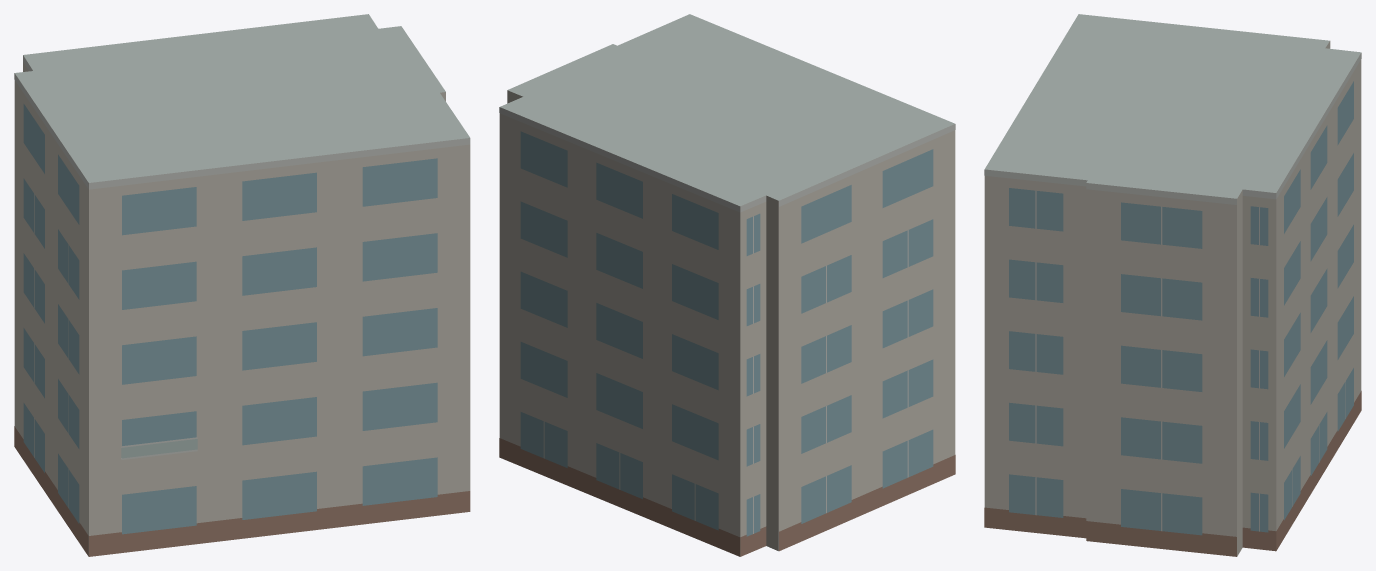
The model's file is survey-upis-32753246.glb.
The picture shows the model from 3 angles, left to right: view 1: azimuth 30°, elevation 25°; view 2: azimuth 150°, elevation 25°; view 3: azimuth 270°, elevation 25°; orthographic projection. The views are drawn at different scales.
Visible parts, largest first — view 1: survey-upis-32753246.tmp; view 2: survey-upis-32753246.tmp; view 3: survey-upis-32753246.tmp.
Part boxes in pixels (x1,y1,x2,y2): survey-upis-32753246.tmp: (14, 14, 470, 556); survey-upis-32753246.tmp: (499, 14, 955, 556); survey-upis-32753246.tmp: (984, 14, 1361, 556).
Size of the model in its own units: 15.28 by 13.8 by 13.18.
